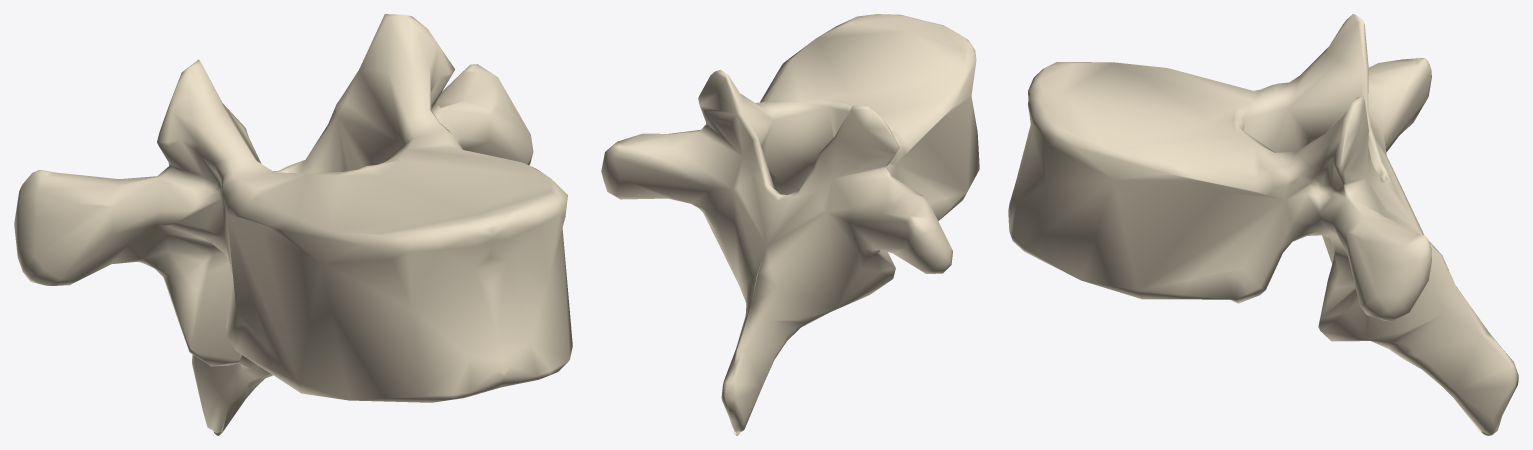
The model's file is vertebra-t8.glb.
3 views of the same model, side by side, from view 1: azimuth 30°, elevation 25°; view 2: azimuth 150°, elevation 25°; view 3: azimuth 270°, elevation 25° (orthographic). The views are drawn at different scales.
Visible parts, largest first — view 1: Vertebra T8; view 2: Vertebra T8; view 3: Vertebra T8.
Part boxes in pixels (x1=…): Vertebra T8: x1=14, y1=14, x2=572, y2=435; Vertebra T8: x1=601, y1=14, x2=979, y2=435; Vertebra T8: x1=1008, y1=14, x2=1518, y2=435.
Bounding box in the file's own units: 0.0702 × 0.0602 × 0.0737.
